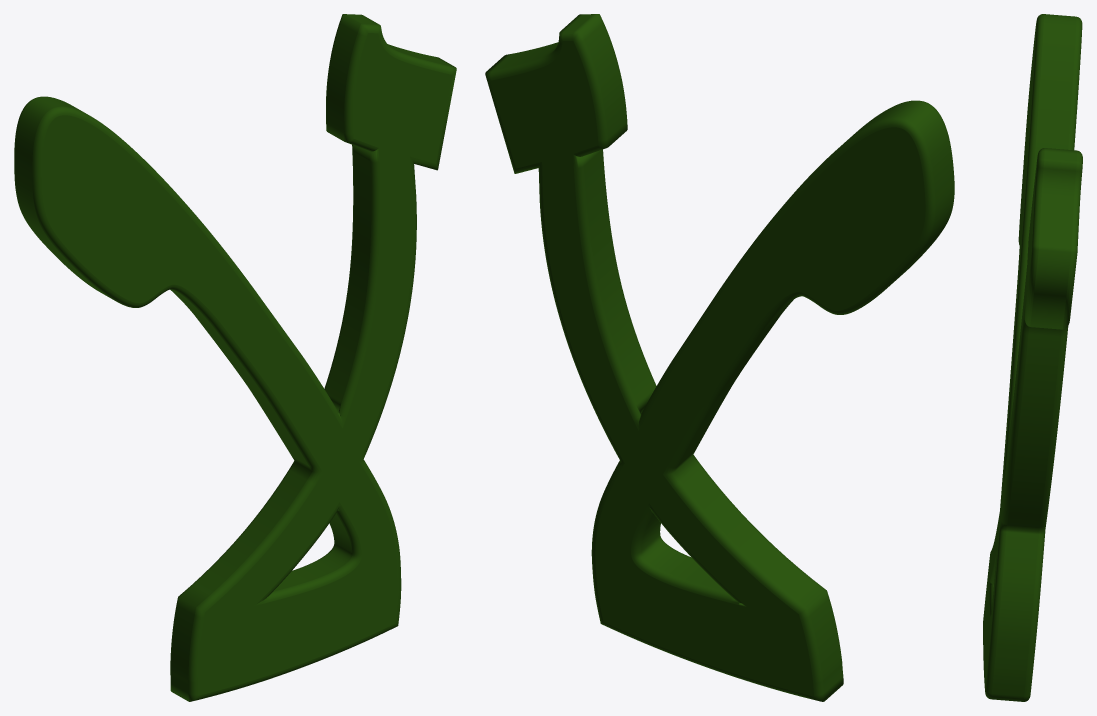
Rendered from Lamalif.obj.
3 renders of one model, left to right at view 1: azimuth 30°, elevation 25°; view 2: azimuth 150°, elevation 25°; view 3: azimuth 270°, elevation 25°, orthographic. The views are drawn at different scales.
Parts seen in each view (by area): view 1: Curve.027_Curve.003; view 2: Curve.027_Curve.003; view 3: Curve.027_Curve.003.
Part boxes in pixels (x1=…): Curve.027_Curve.003: x1=14, y1=14, x2=456, y2=701; Curve.027_Curve.003: x1=485, y1=14, x2=954, y2=701; Curve.027_Curve.003: x1=983, y1=14, x2=1082, y2=701.
Bounding box in the file's own units: 4.3 × 5.9 × 0.9328.
